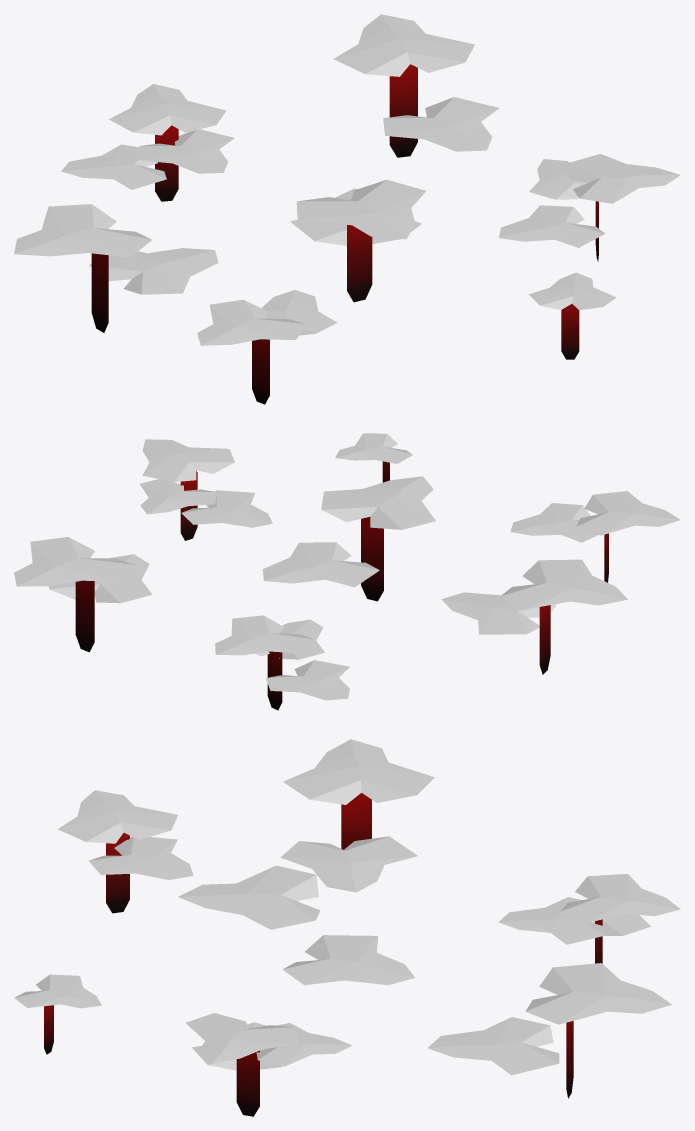
File: Ivy.fbx
3 renders of one model, top to bottom at view 1: azimuth 30°, elevation 25°; view 2: azimuth 150°, elevation 25°; view 3: azimuth 270°, elevation 25°, orthographic. The views are drawn at different scales.
Visible parts, largest first — view 1: Plane.013, Plane.016, Plane.001, Plane.014, Plane.017, Plane.007, Plane.004, Plane.010, Plane.005, Plane.019, Plane.008, Plane.021 (+9 smaller); view 2: Plane.001, Plane.016, Plane.013, Plane.002, Plane.004, Plane.017, Plane.010, Plane.007, Plane.008, Plane.005, Plane.011, Plane.014 (+8 smaller); view 3: Plane.016, Plane.001, Plane.013, Plane.014, Plane.002, Plane.017, Plane.010, Plane.007, Plane.004, Plane.011, Plane.019, Plane.021 (+6 smaller).
Boxes of the visible parts, x1,y1,x2,y2 form: Plane.013: (333, 14, 474, 76); Plane.016: (14, 204, 151, 257); Plane.001: (296, 180, 425, 239); Plane.014: (383, 97, 499, 151); Plane.017: (89, 248, 218, 294); Plane.007: (109, 84, 226, 135); Plane.004: (568, 154, 680, 203); Plane.010: (197, 299, 306, 345); Plane.005: (499, 205, 605, 247); Plane.019: (139, 129, 234, 173); Plane.008: (61, 144, 166, 189); Plane.021: (528, 272, 616, 310); Plane.001: (321, 476, 435, 529); Plane.016: (500, 559, 627, 609); Plane.013: (14, 537, 134, 586); Plane.002: (262, 542, 379, 587); Plane.004: (142, 439, 234, 481); Plane.017: (441, 592, 556, 634); Plane.010: (576, 491, 680, 535); Plane.007: (215, 615, 314, 655); Plane.008: (266, 660, 349, 700); Plane.005: (181, 490, 272, 527); Plane.011: (510, 503, 597, 542); Plane.014: (49, 554, 152, 603); Plane.016: (283, 739, 434, 804); Plane.001: (178, 865, 320, 929); Plane.013: (525, 963, 671, 1024); Plane.014: (427, 1017, 559, 1075); Plane.002: (282, 935, 414, 985); Plane.017: (280, 836, 417, 892); Plane.010: (57, 790, 177, 843); Plane.007: (560, 874, 680, 923); Plane.004: (186, 1013, 298, 1063); Plane.011: (89, 836, 193, 879); Plane.019: (498, 897, 606, 944); Plane.021: (14, 974, 101, 1008).
Bounding box in the file's own units: 140 × 22.85 × 129.
